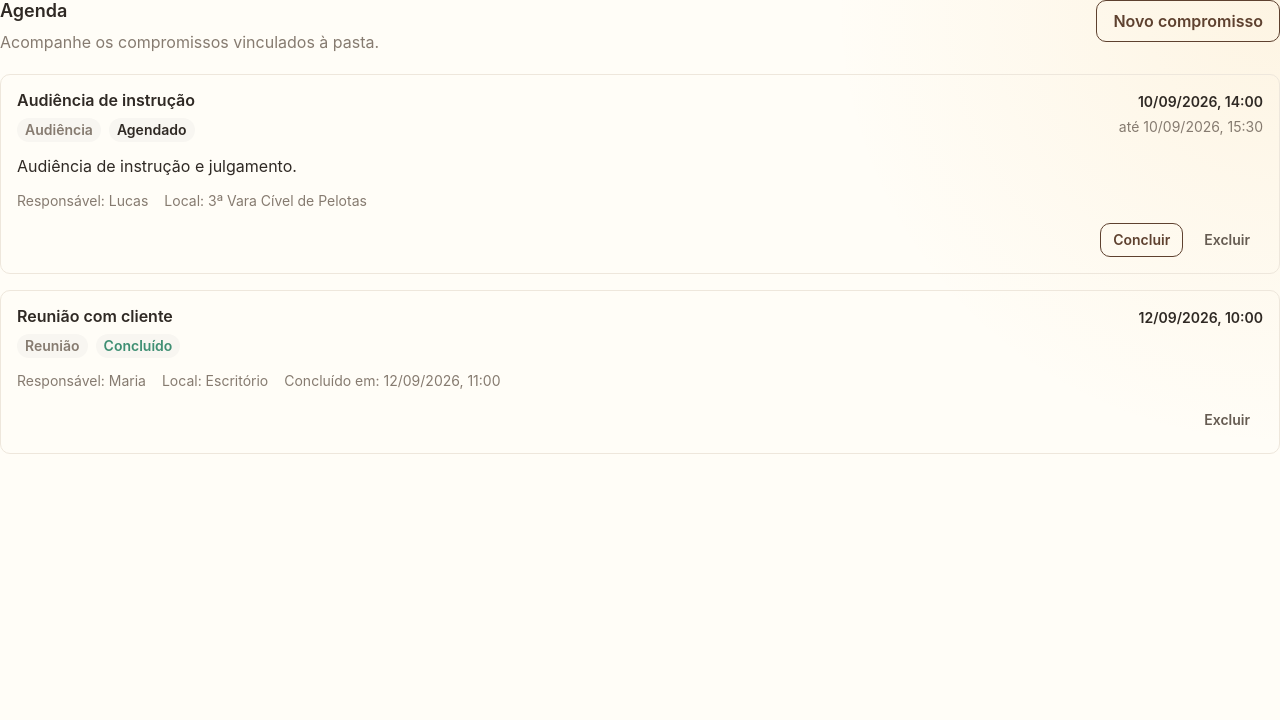
Scenario: FolderEvents › exibe erro quando criação do compromisso falha
Step 1. Click the button "Novo compromisso" → (1188, 21), box x1=1096 y1=0 x2=1279 y2=42
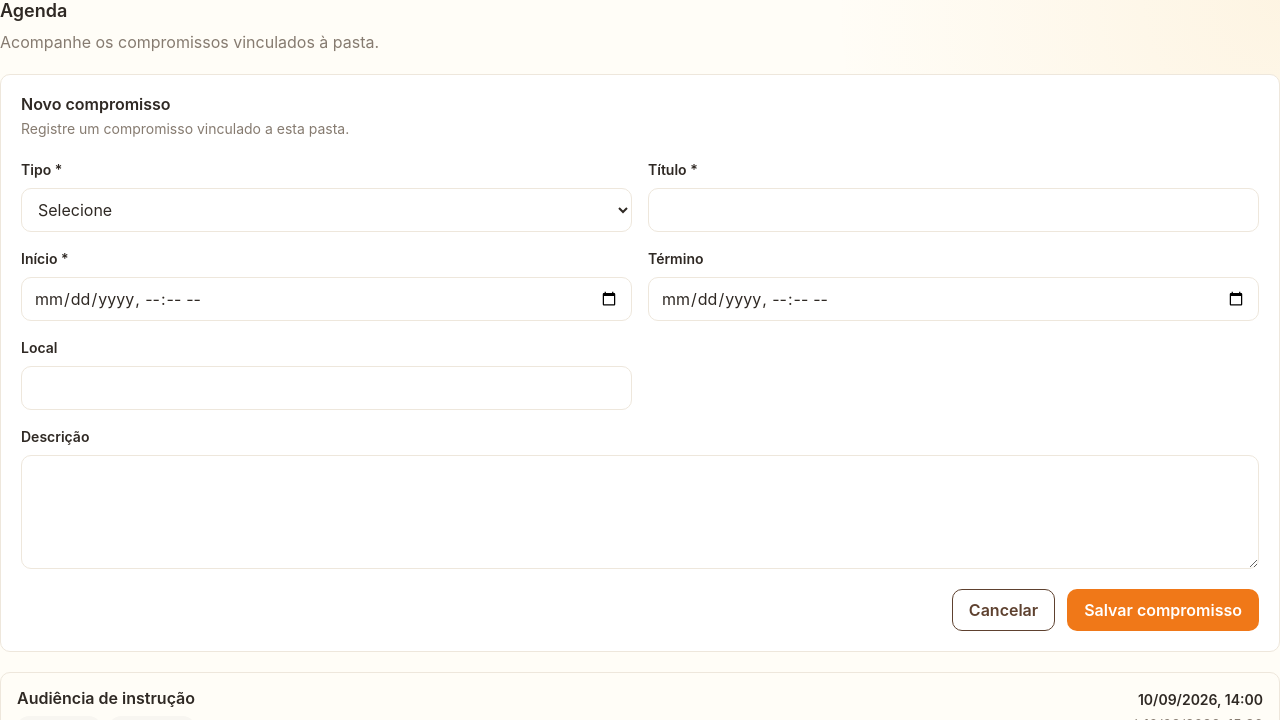
Step 2. Select "Audiência" in the dropdown named "type" → (326, 210), box x1=21 y1=188 x2=632 y2=232
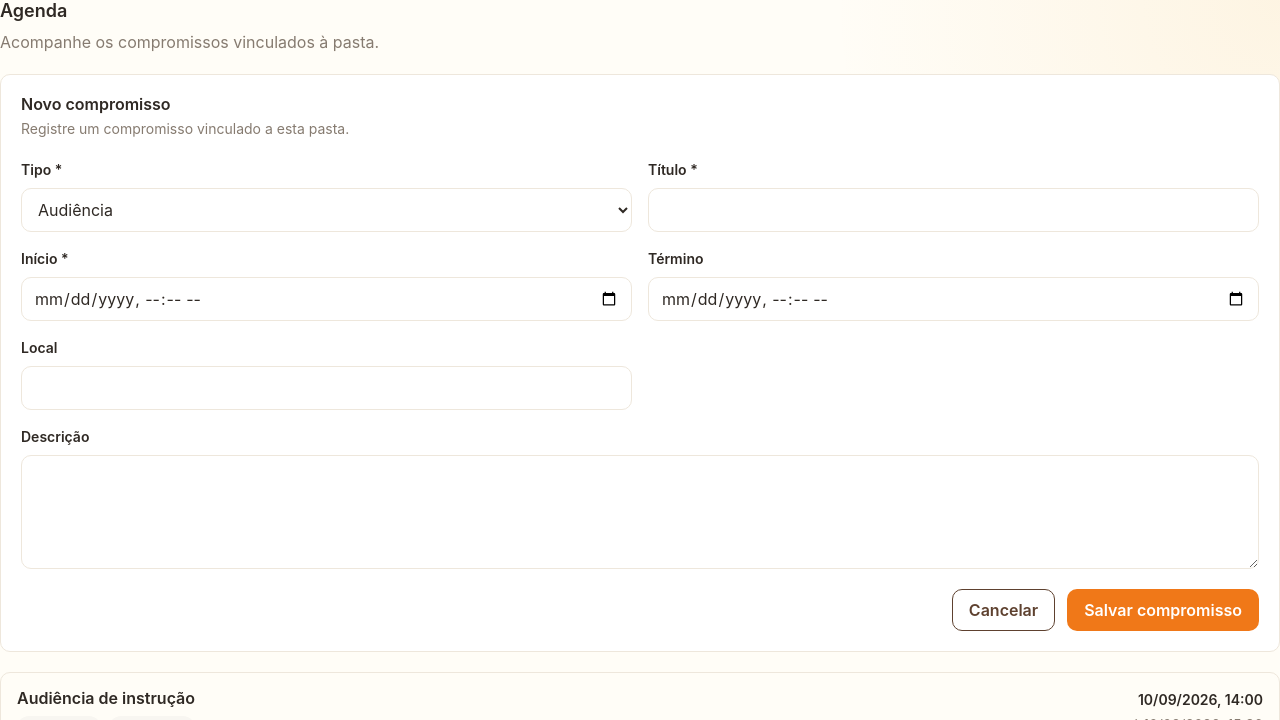
Step 3. Type "Audiência" into the field named "title" → (954, 210), box x1=648 y1=188 x2=1259 y2=232
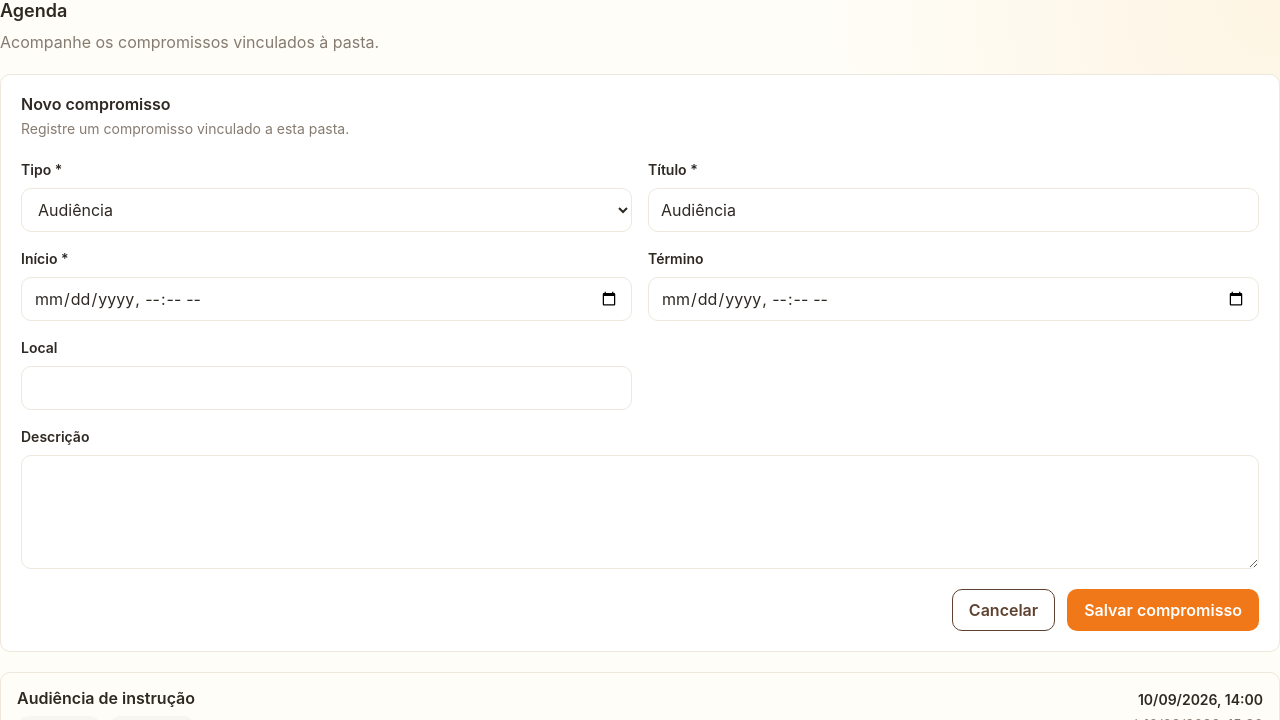
Step 4. Type "2026-09-20T14:00" into the field named "starts_at" → (326, 299), box x1=21 y1=277 x2=632 y2=321
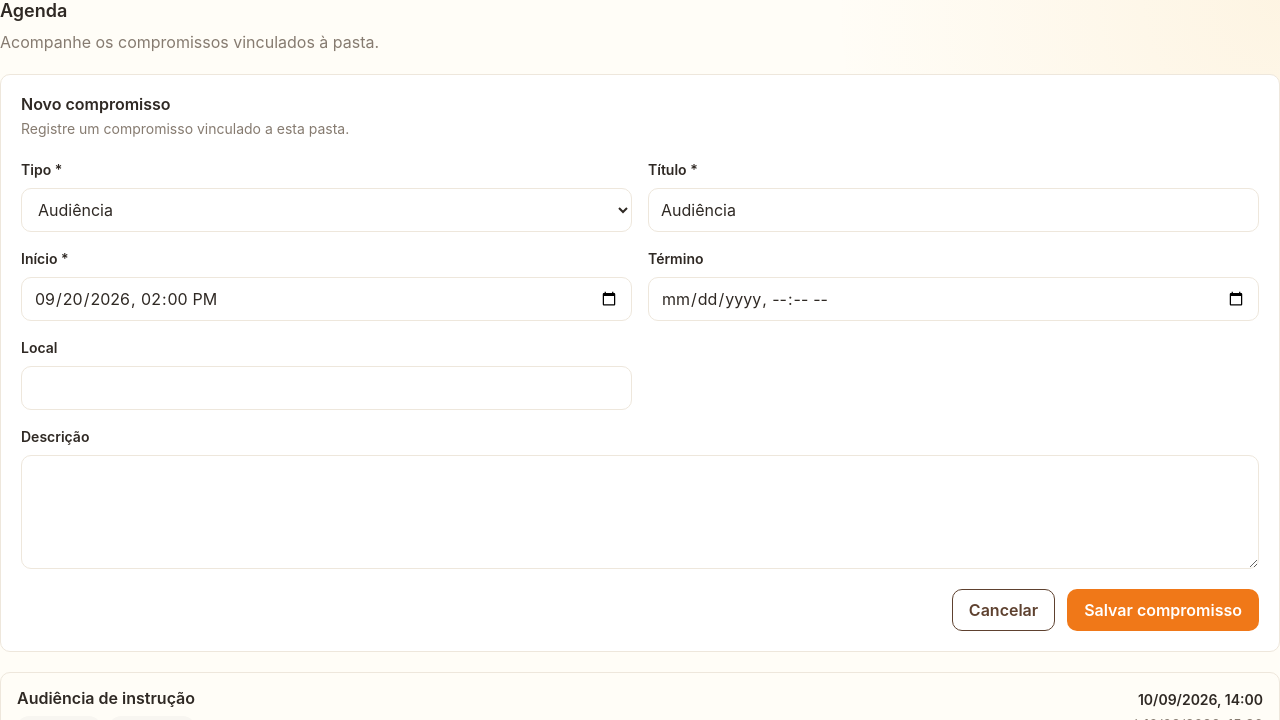
Step 5. Submit the form
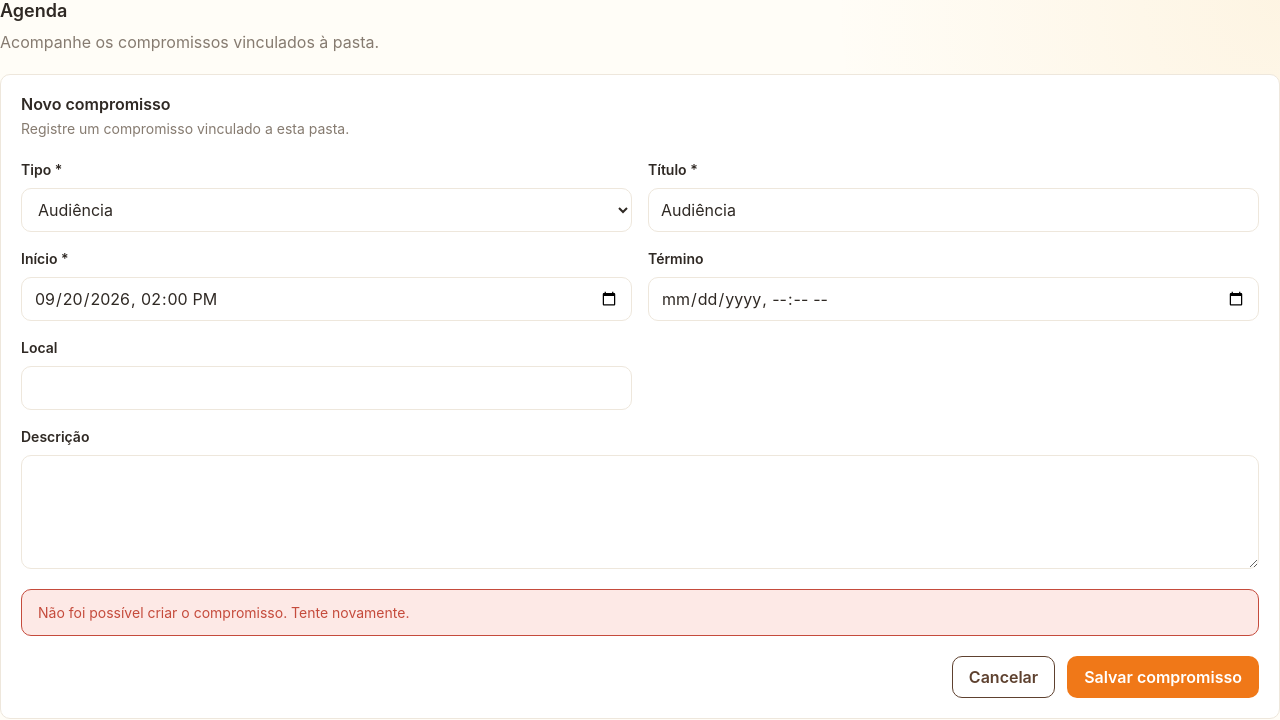
Result: the form is shown
Result: the text "Não foi possível criar o compromisso. Tente novamente." is shown at x1=21 y1=589 x2=1259 y2=636
